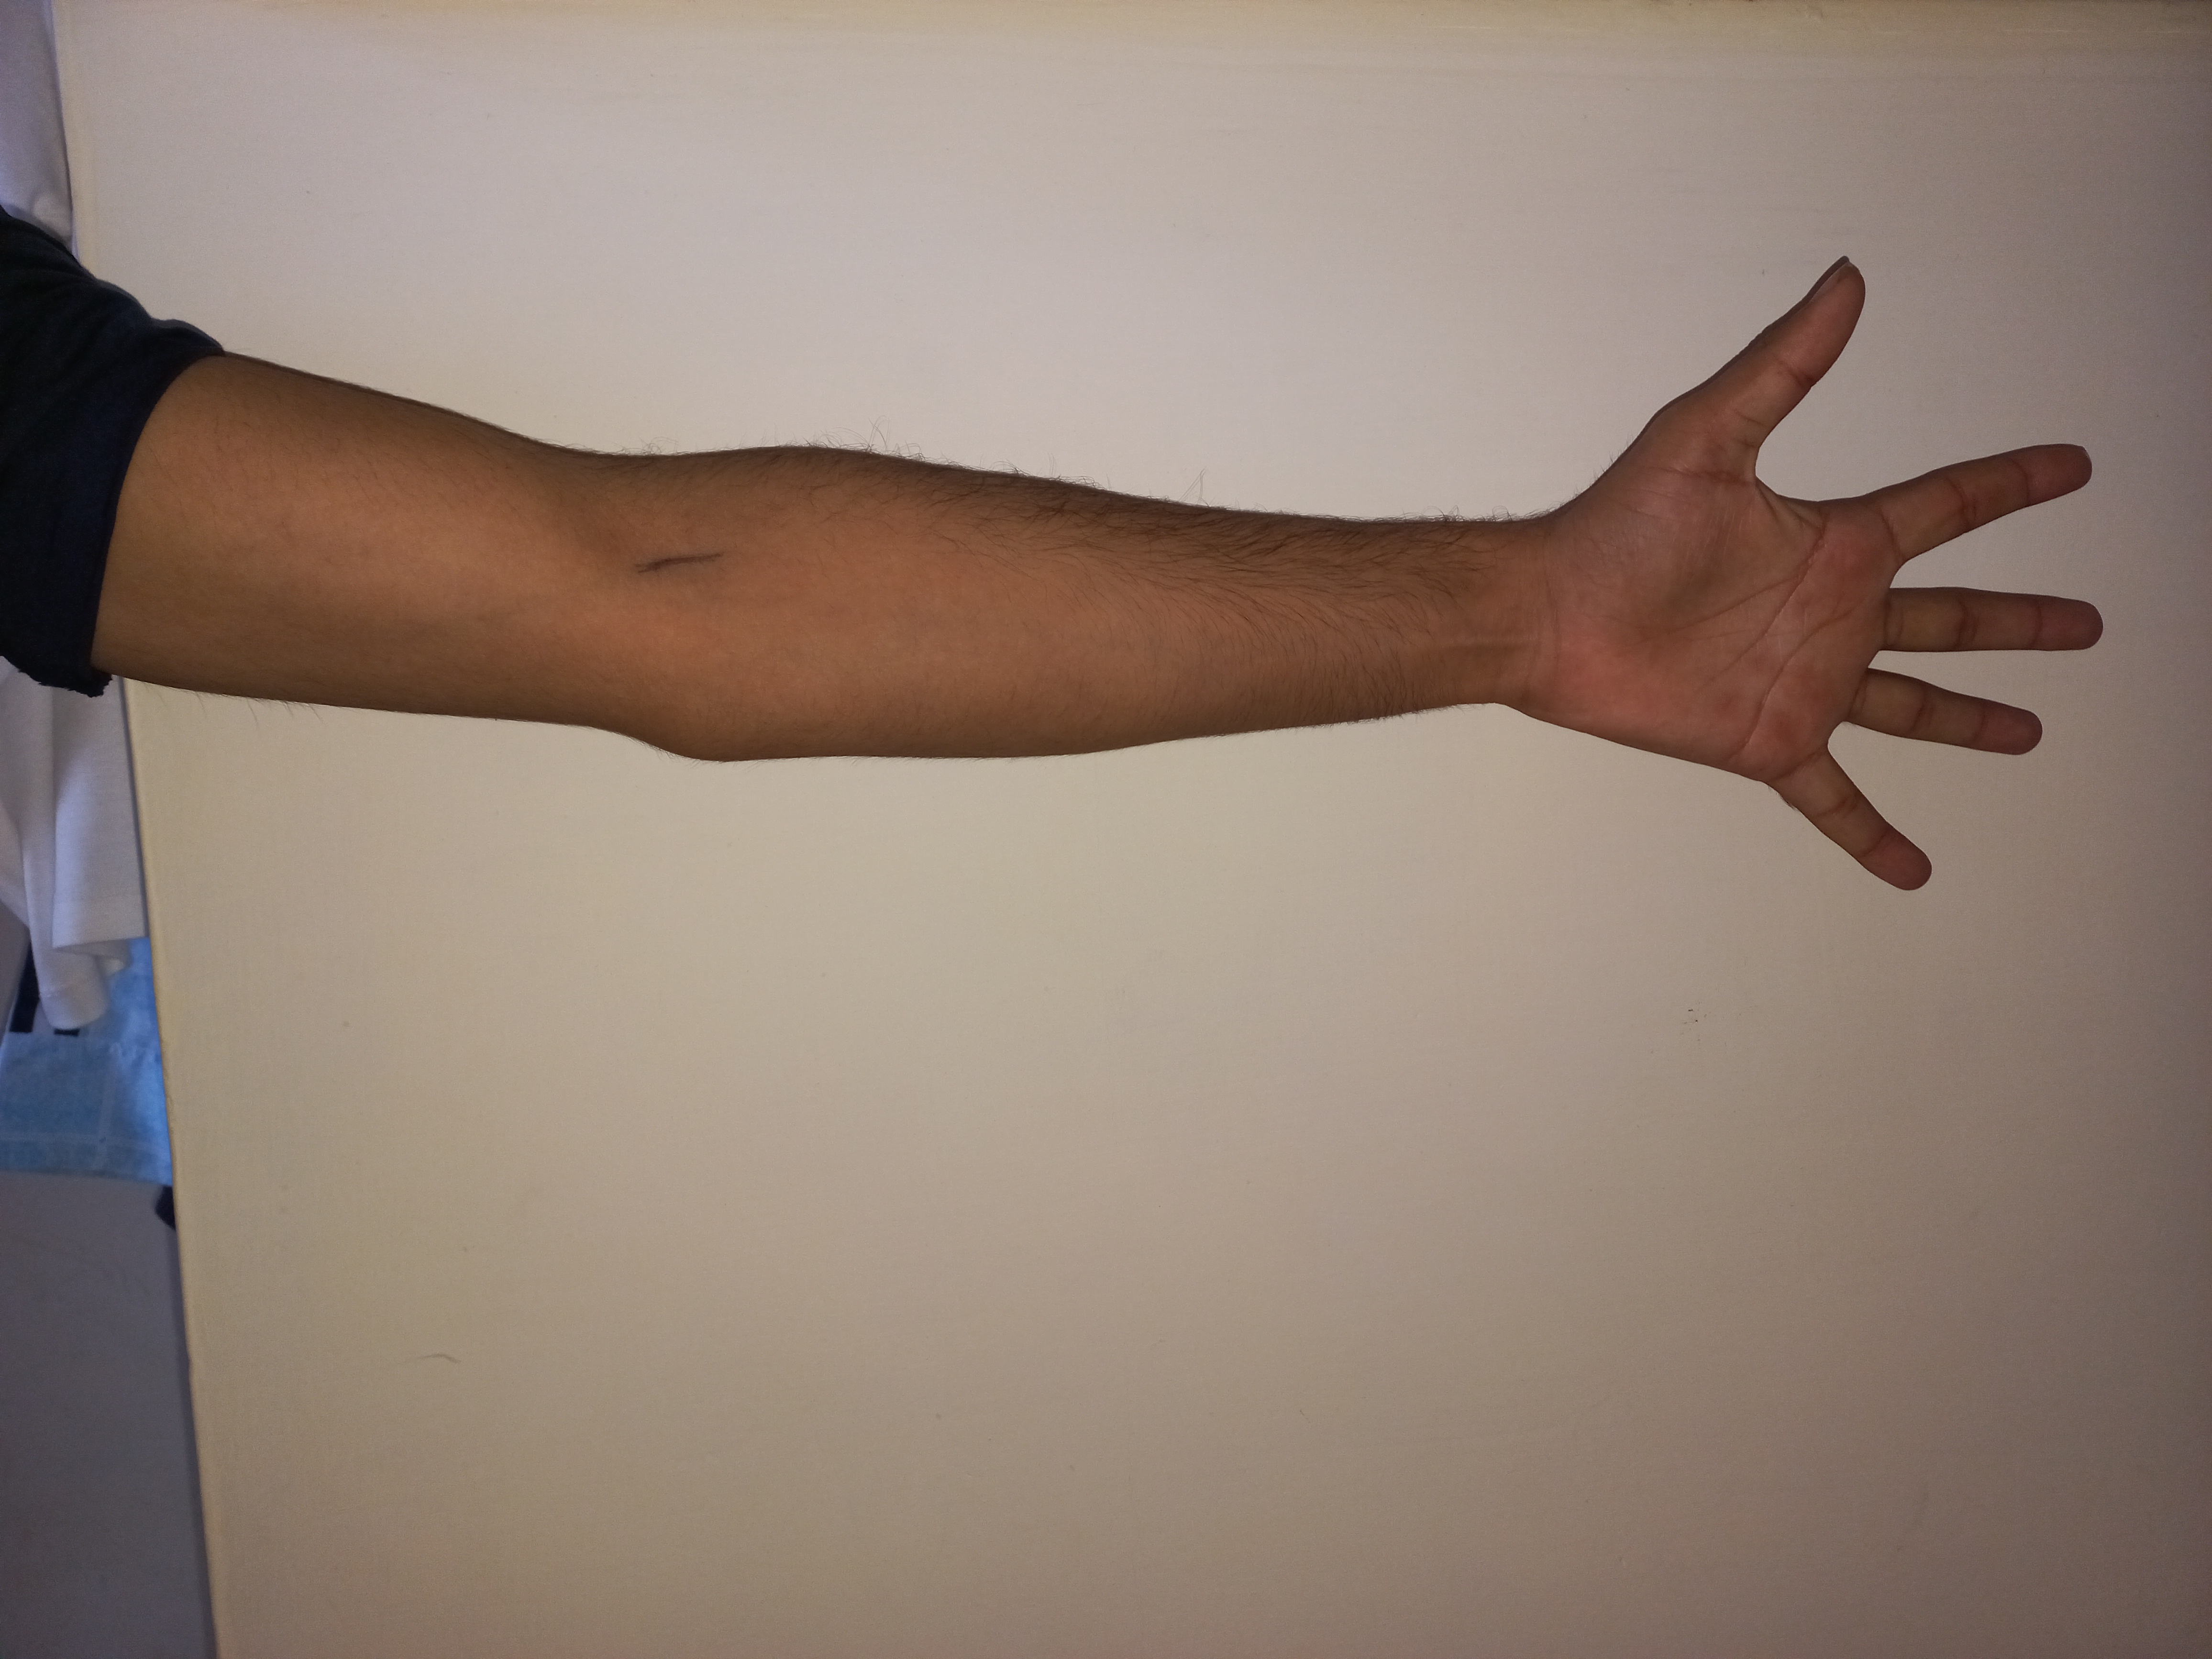vein: (627, 540, 758, 603)
